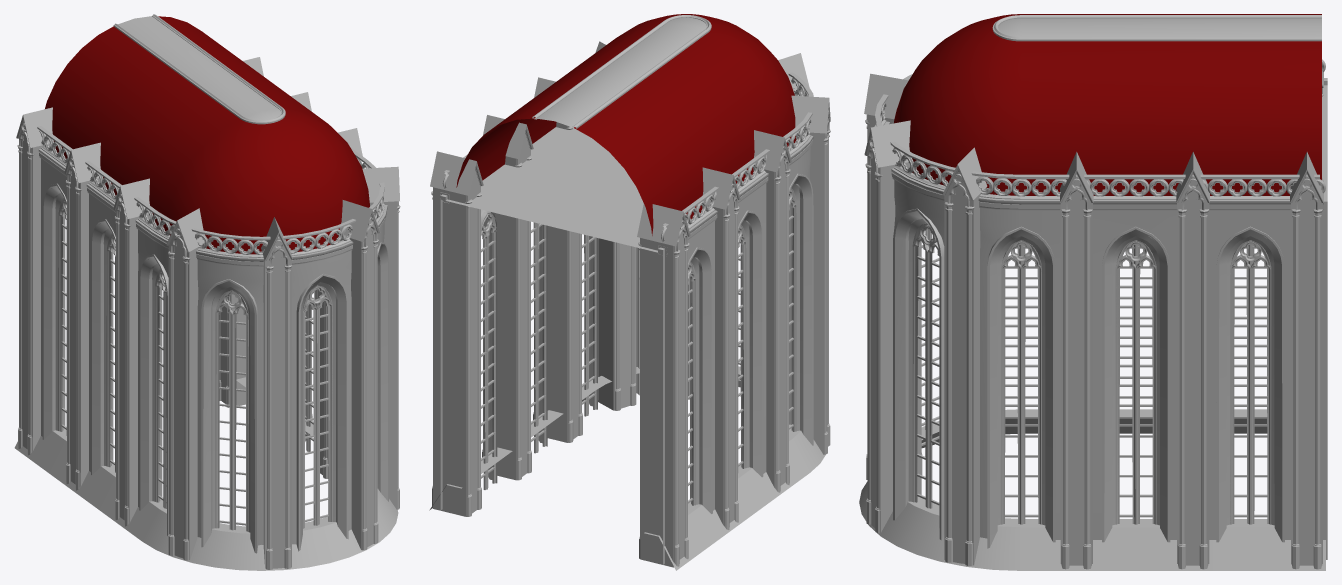
File: wing_005.glb
3 views of the same model, side by side, from view 1: azimuth 30°, elevation 25°; view 2: azimuth 150°, elevation 25°; view 3: azimuth 270°, elevation 25° (orthographic). The views are drawn at different scales.
Visible parts, largest first — view 1: wing_005; view 2: wing_005; view 3: wing_005.
Boxes of the visible parts, x1,y1,x2,y2 form: wing_005: (14, 14, 400, 570); wing_005: (429, 14, 830, 570); wing_005: (859, 14, 1327, 570).
Size of the model in its own units: 2.25 by 3.63 by 3.24.
